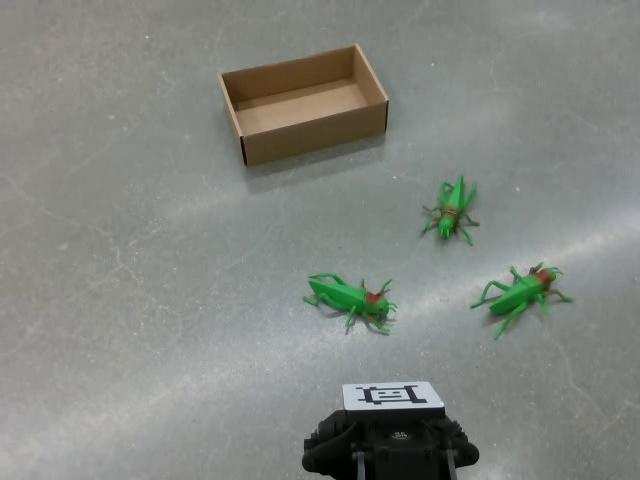box: (216, 42, 390, 166)
grasshopper: (469, 260, 574, 340), (302, 271, 398, 336), (419, 174, 480, 246)
